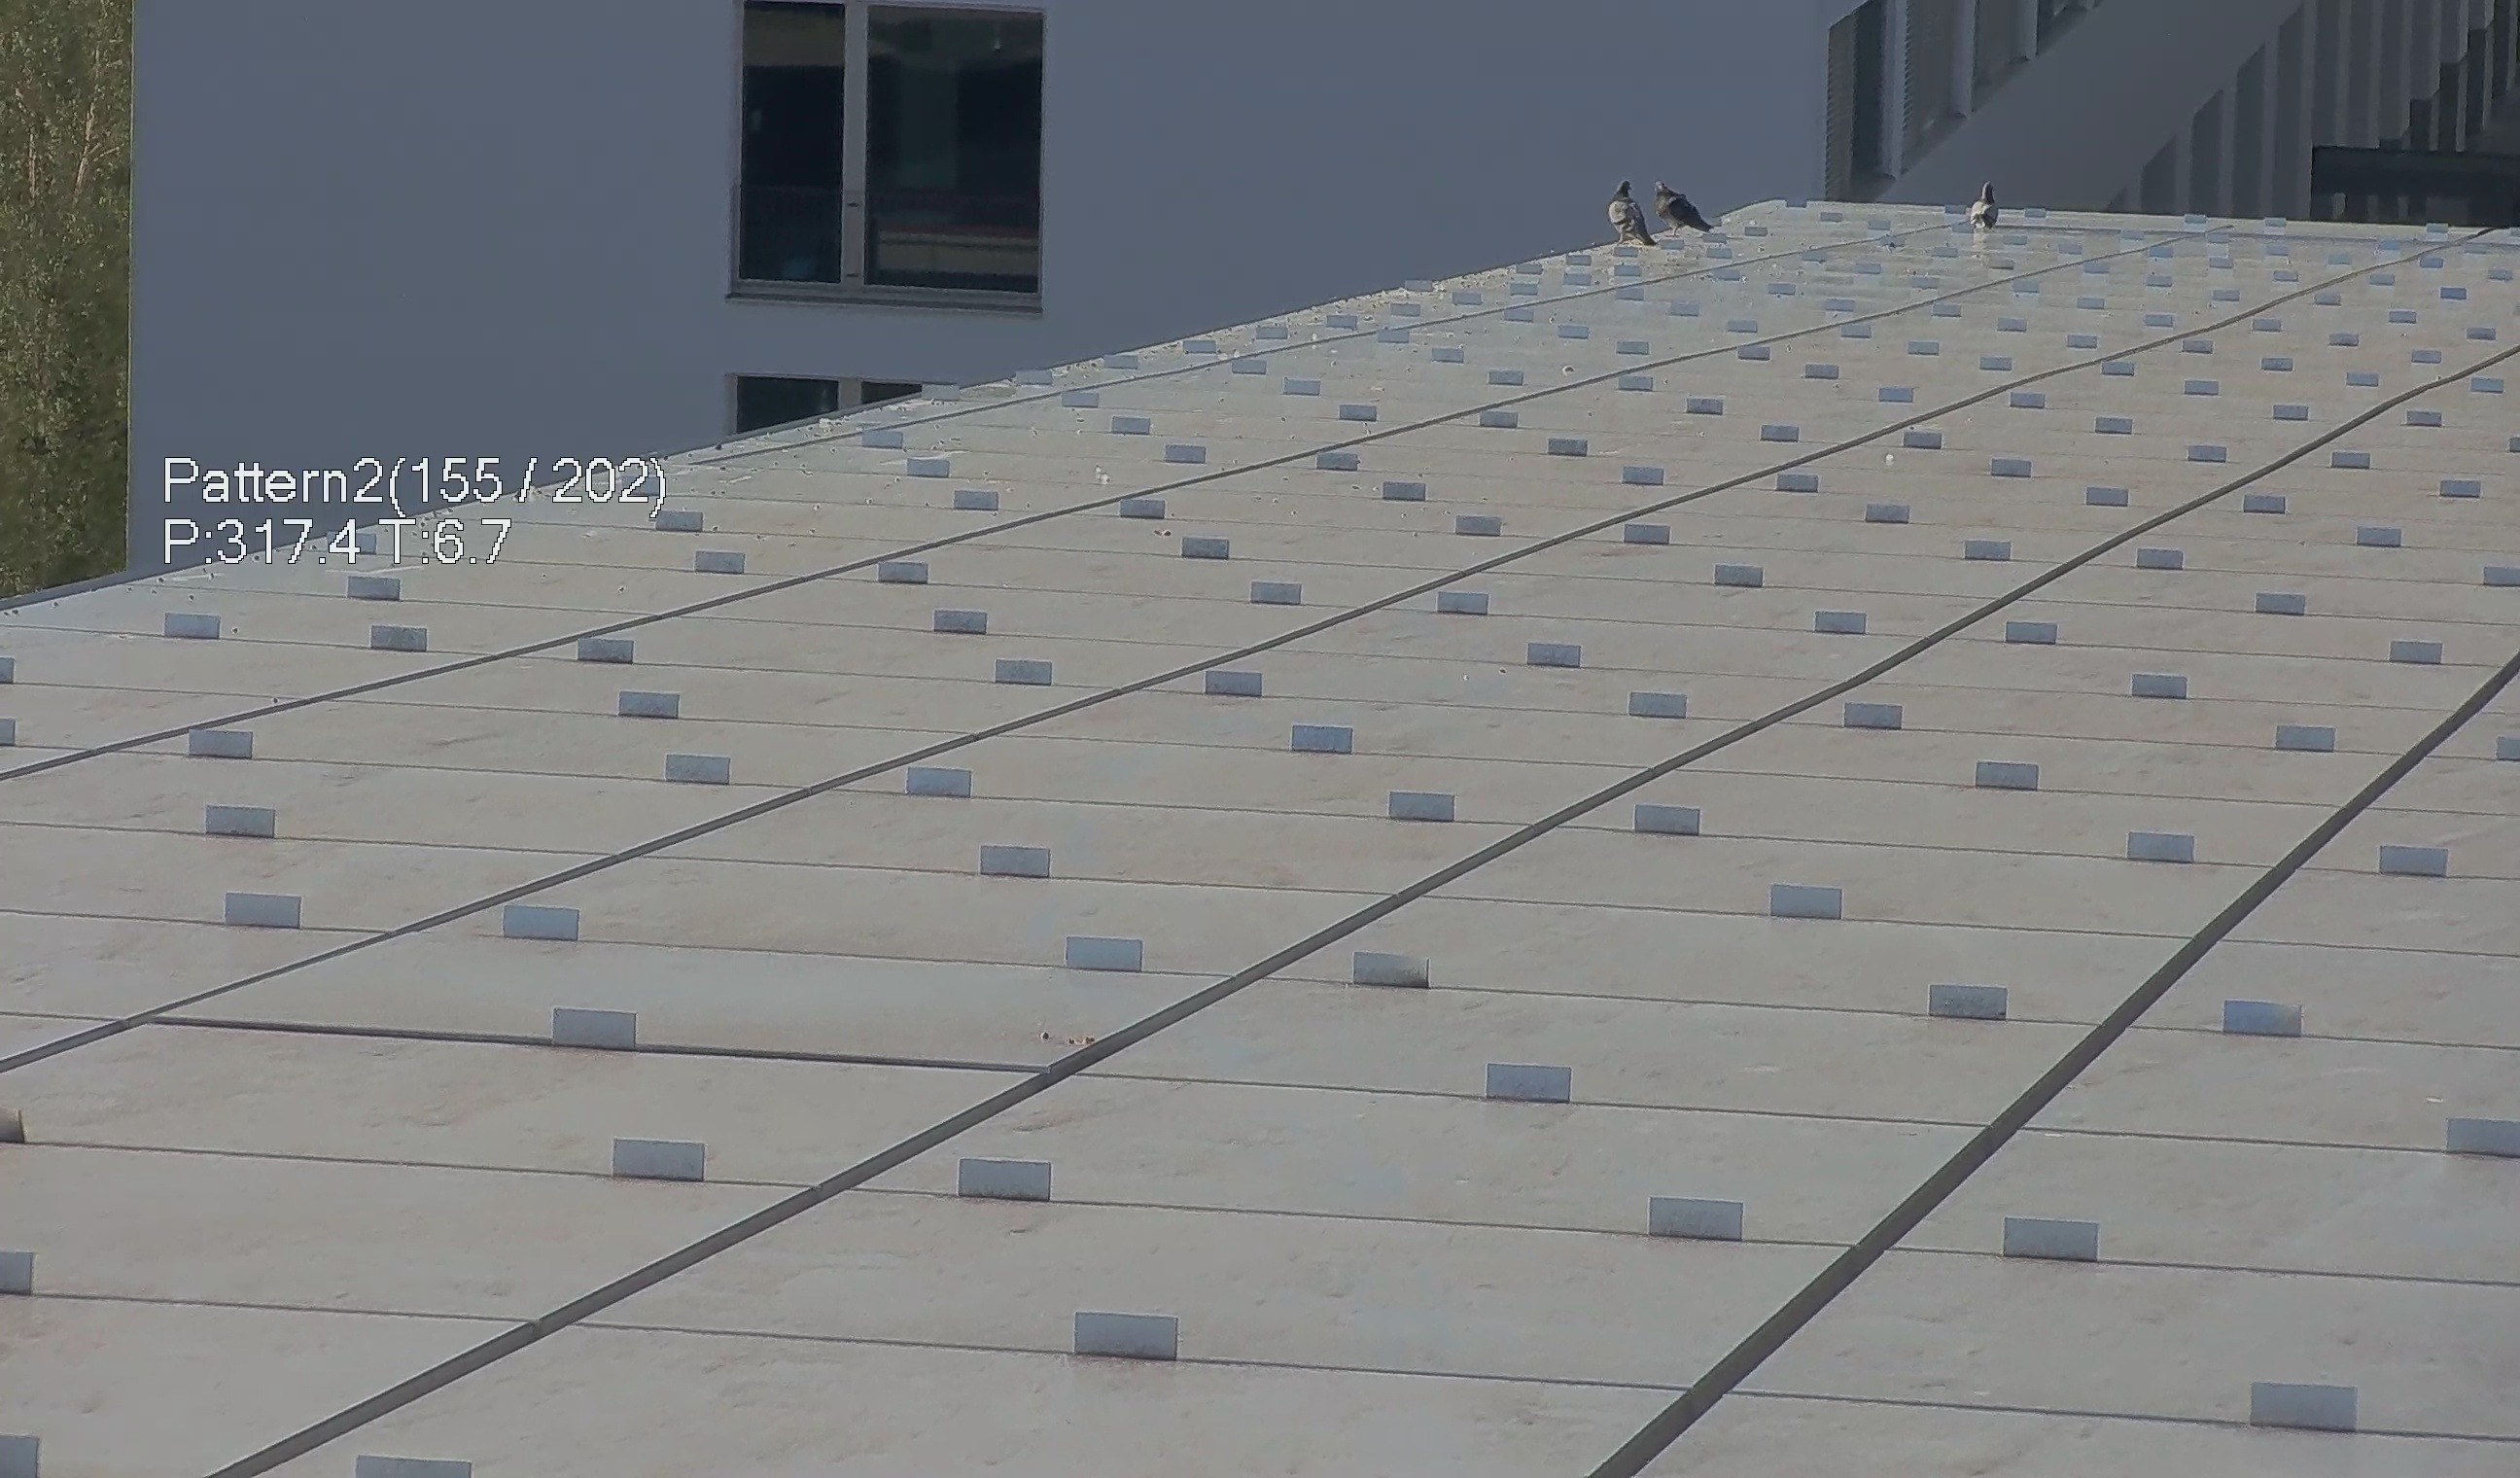Pigeon: (1602, 171, 1657, 257), (1648, 172, 1716, 239), (1957, 179, 2007, 236)
